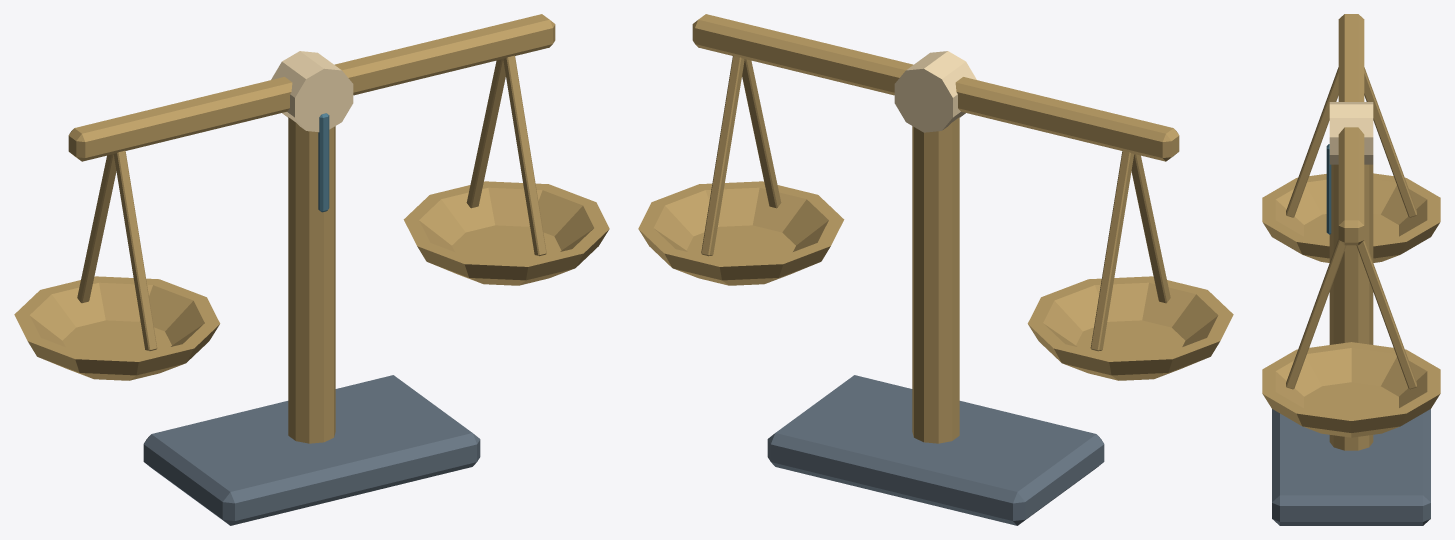
The model's file is 05_Apothecary_Balance.glb.
3 views of the same model, side by side, from view 1: azimuth 30°, elevation 25°; view 2: azimuth 150°, elevation 25°; view 3: azimuth 270°, elevation 25° (orthographic). The views are drawn at different scales.
Parts seen in each view (by area): view 1: 05_Apothecary_Balance__Body; view 2: 05_Apothecary_Balance__Body; view 3: 05_Apothecary_Balance__Body.
Part boxes in pixels (x1=…): 05_Apothecary_Balance__Body: x1=14, y1=14, x2=609, y2=525; 05_Apothecary_Balance__Body: x1=638, y1=14, x2=1233, y2=525; 05_Apothecary_Balance__Body: x1=1262, y1=14, x2=1440, y2=525.
Bounding box in the file's own units: 2.98 × 2.04 × 0.894.
1 material, 1 textured.
